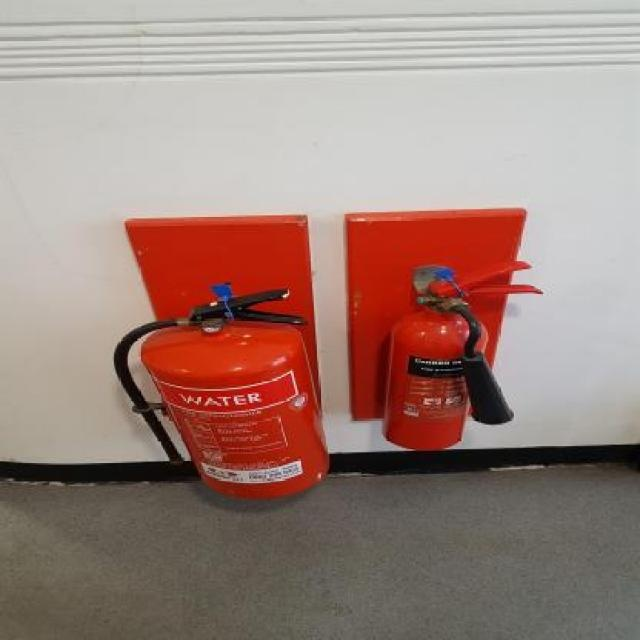fire extinguisher: (112, 287, 332, 499), (379, 259, 544, 453)
